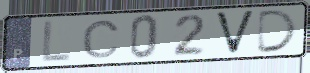0: (129, 13, 164, 61)
2: (172, 13, 206, 58)
C: (81, 18, 123, 60)
D: (255, 8, 301, 55)
L: (40, 19, 73, 63)
V: (213, 9, 258, 56)
